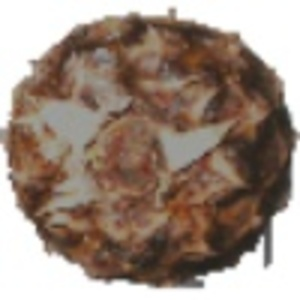abacaxi: (7, 9, 294, 278)
